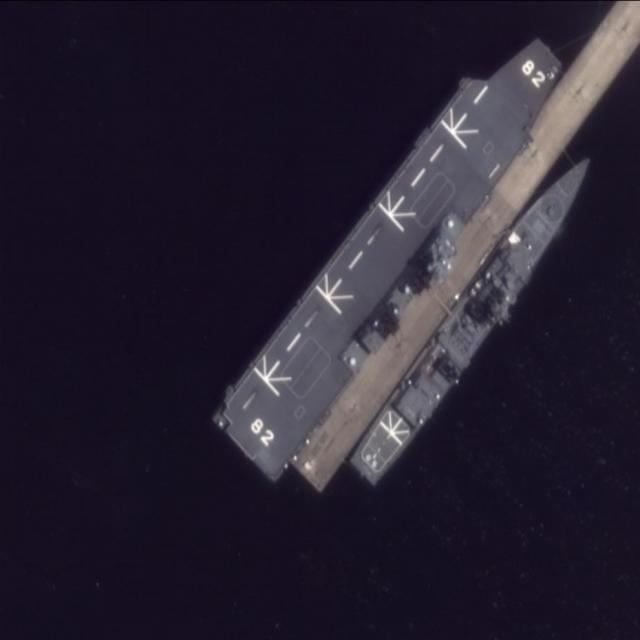Destroyer: (203, 19, 586, 478), (341, 138, 608, 491)
